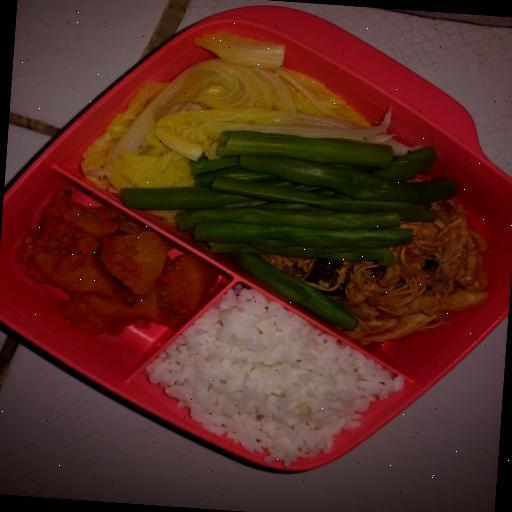buncis_rebus: (180, 118, 418, 272)
nasi_putih: (170, 306, 386, 482)
